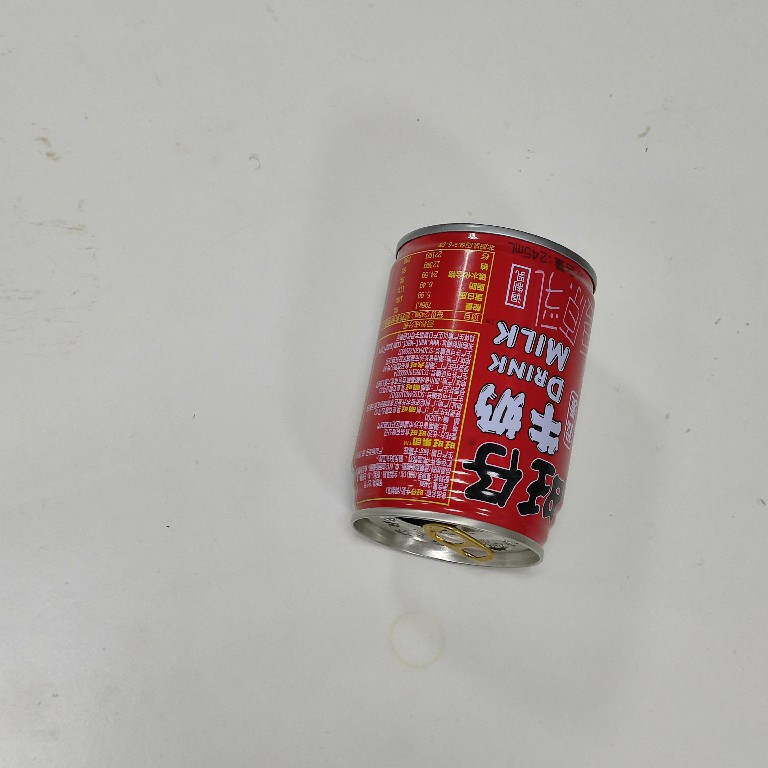can: (342, 219, 603, 575)
